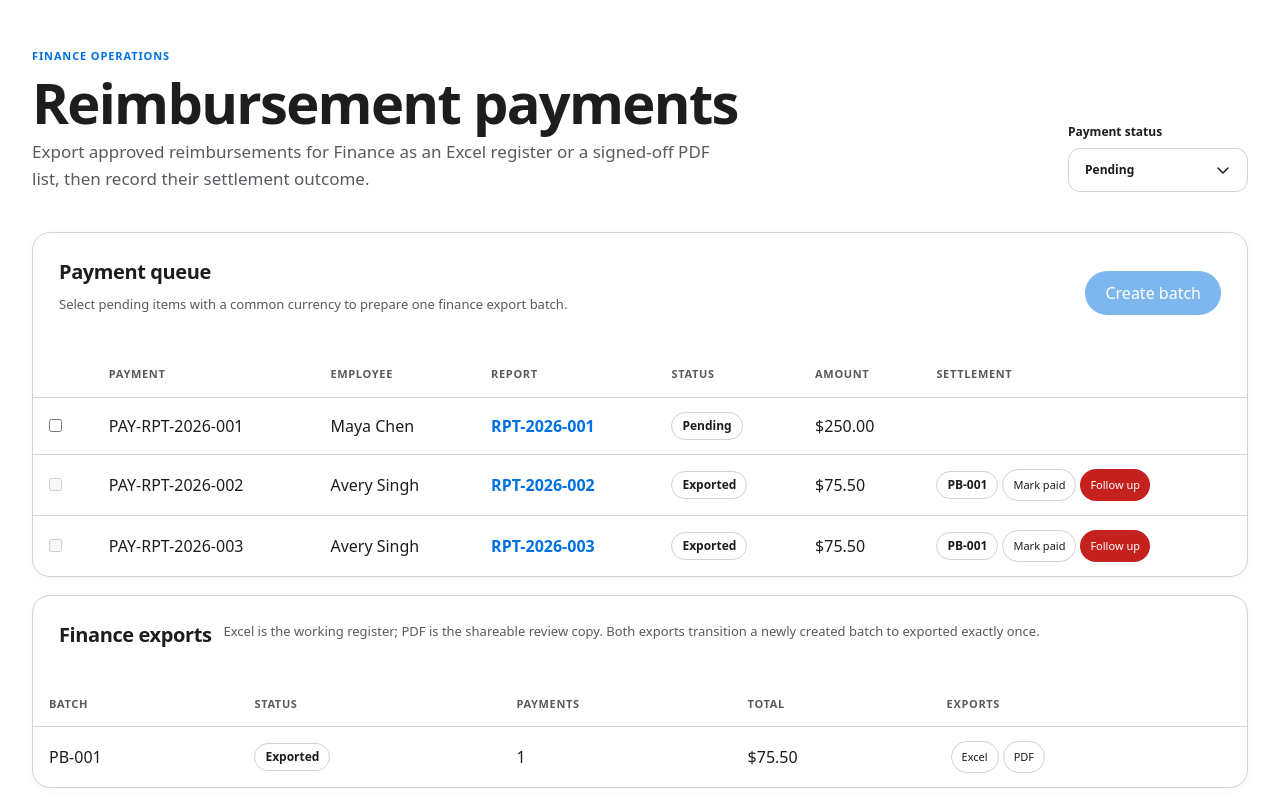
Test case: PaymentsPage › does not let a completed payment mutation close a later payment dialog
This screenshot has width=1280, height=800.
Expected: the text "PAY-RPT-2026-002" is shown, [93, 454, 314, 516]
Click the button "Mark paid" in the row of "PAY-RPT-2026-002" at (1039, 485), box [1002, 469, 1076, 501]
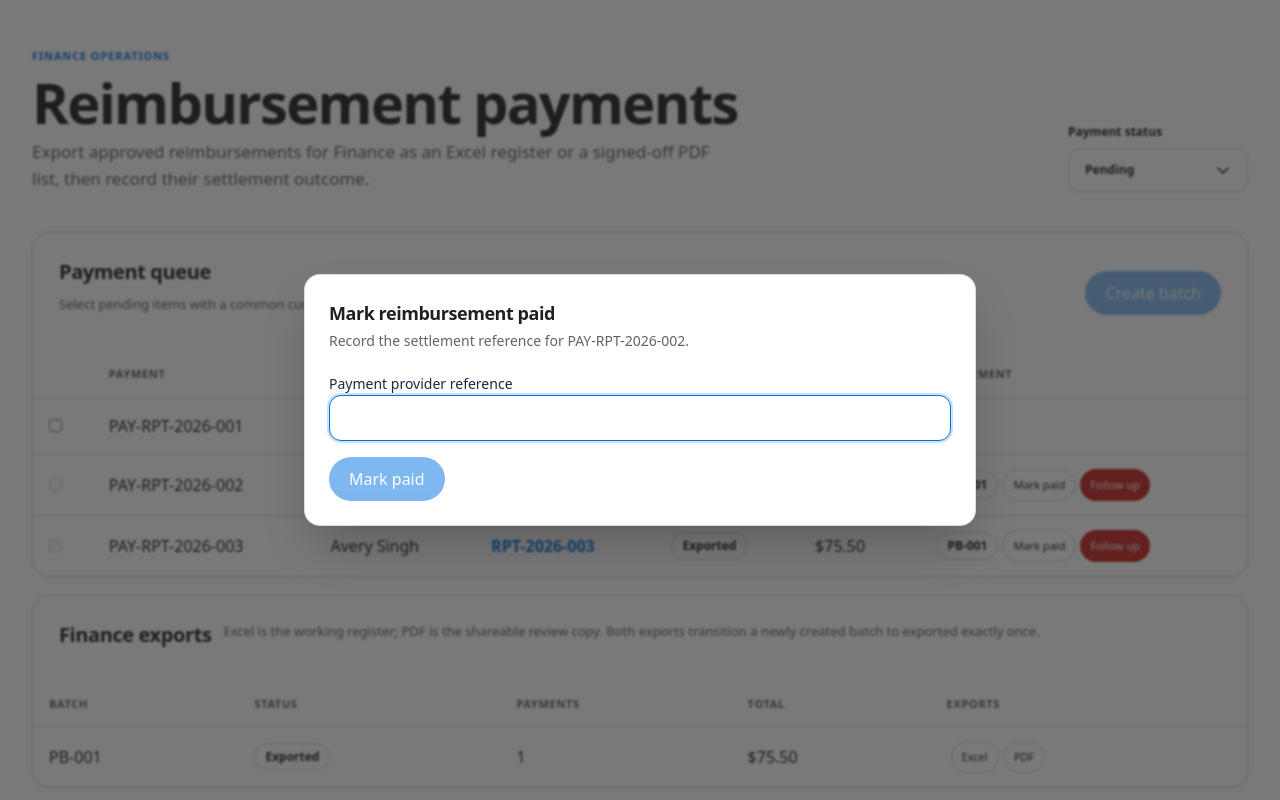
Type "PROV-A" into the field labelled "Payment provider reference" at (640, 418), box [329, 395, 951, 441]
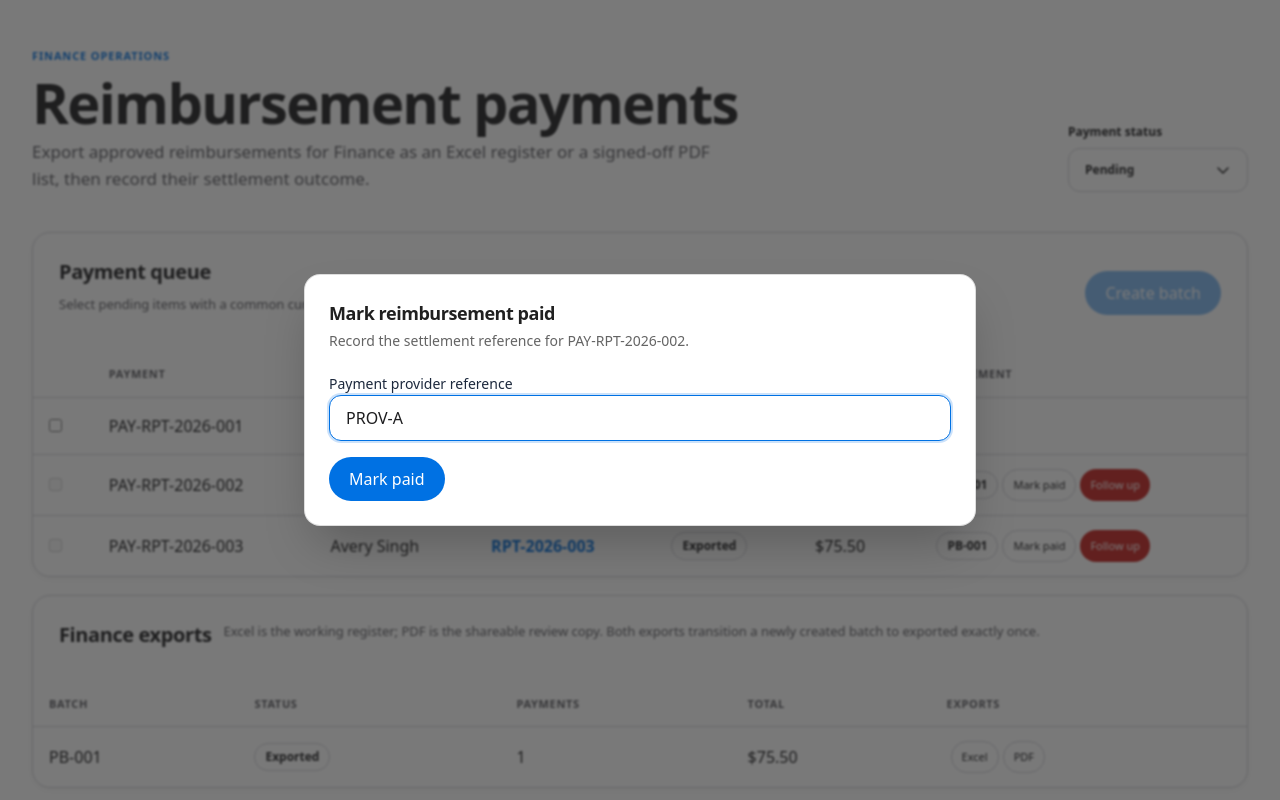
Click the button "Mark paid" at (387, 479), box [329, 457, 445, 501]
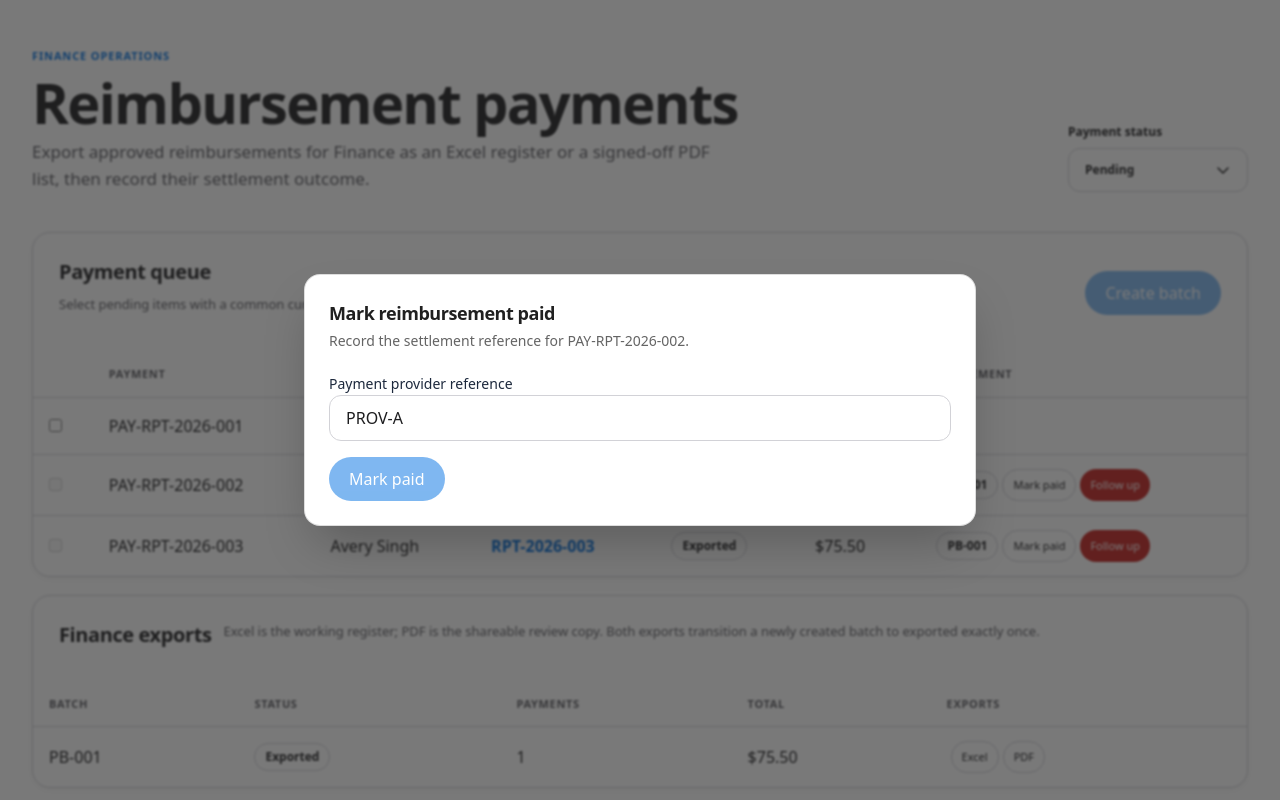
Press Escape
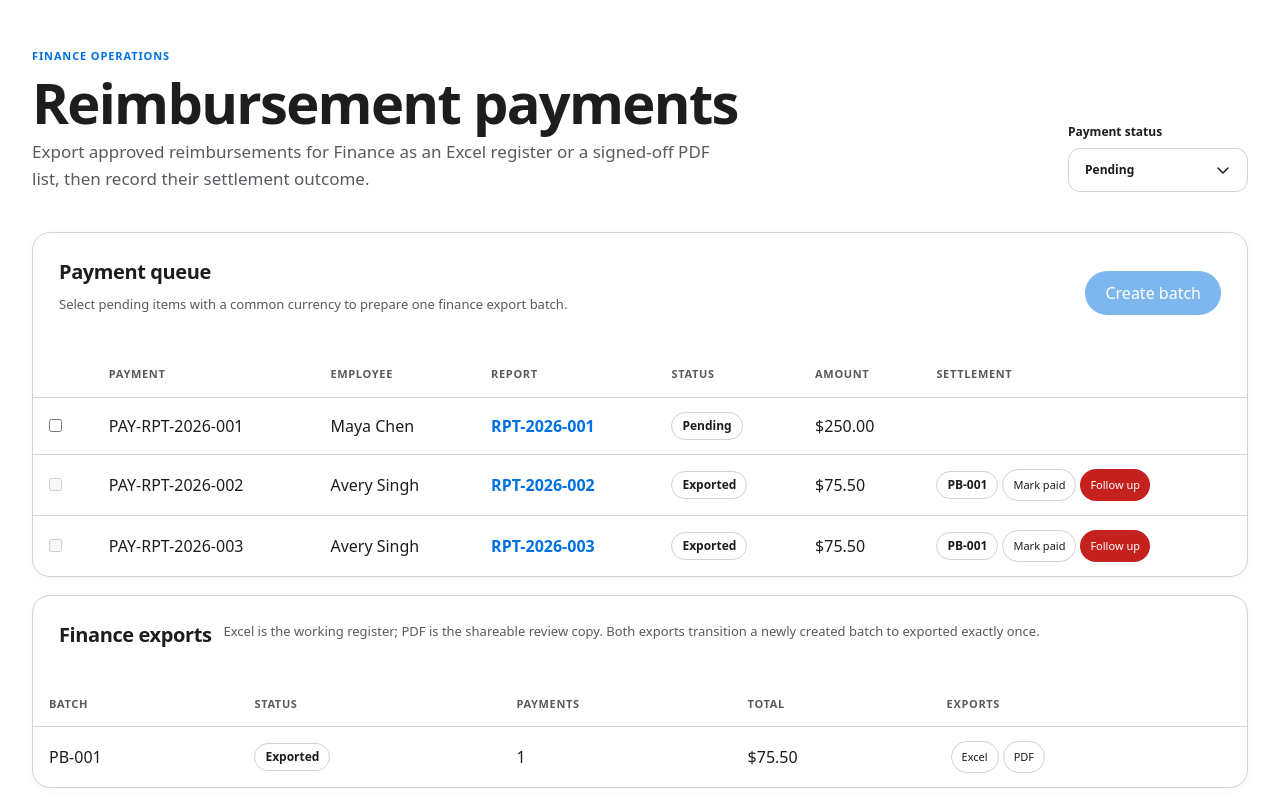
Click the button "Mark paid" in the row of "PAY-RPT-2026-003" at (1039, 546), box [1002, 530, 1076, 562]
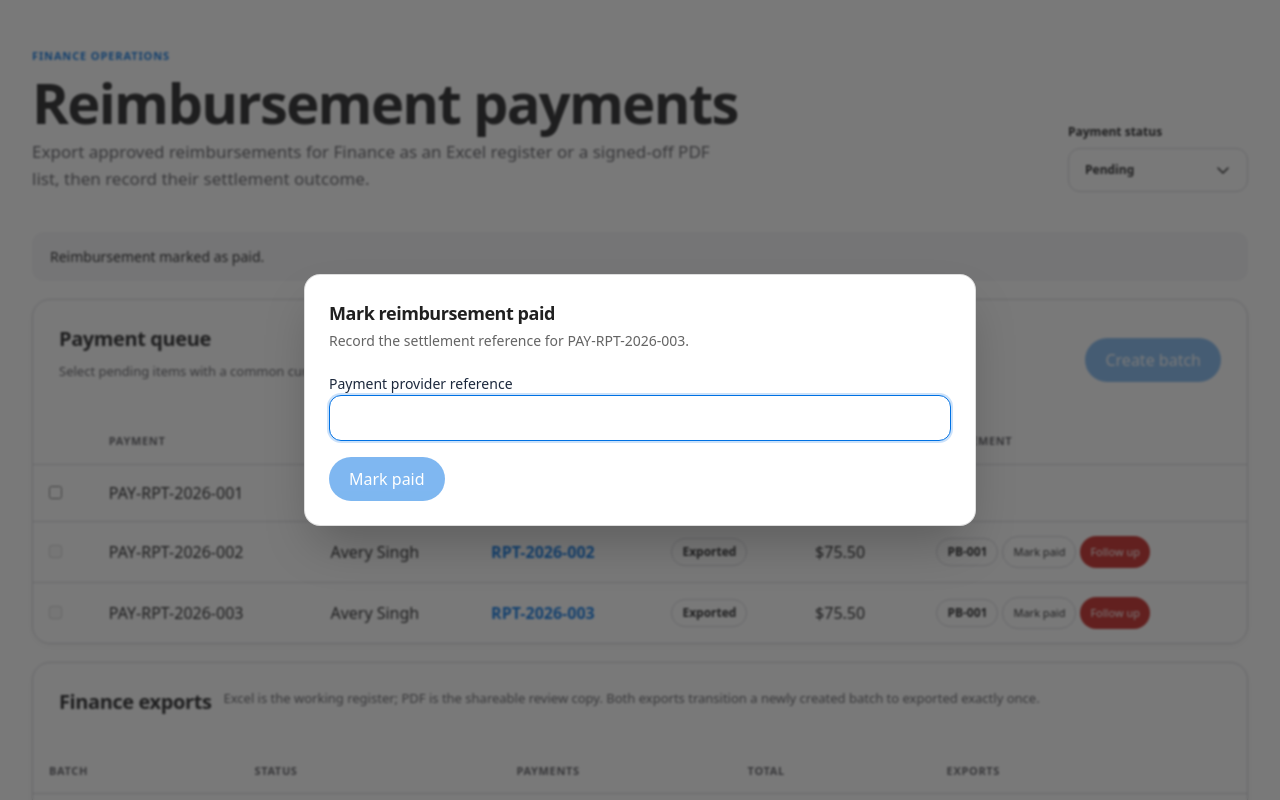
Expected: the text "Reimbursement marked as paid." is shown, [32, 232, 1248, 281]
Expected: the dialog is shown, [304, 274, 976, 526]
Expected: the field labelled "Payment provider reference" is empty, [329, 395, 951, 441]
